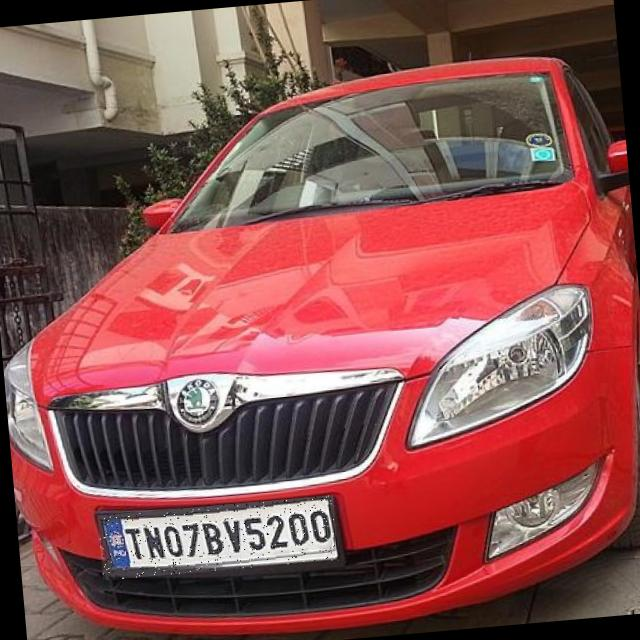Plate: (98, 496, 339, 581)
